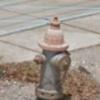a fire hydrant: (34, 16, 71, 100)
